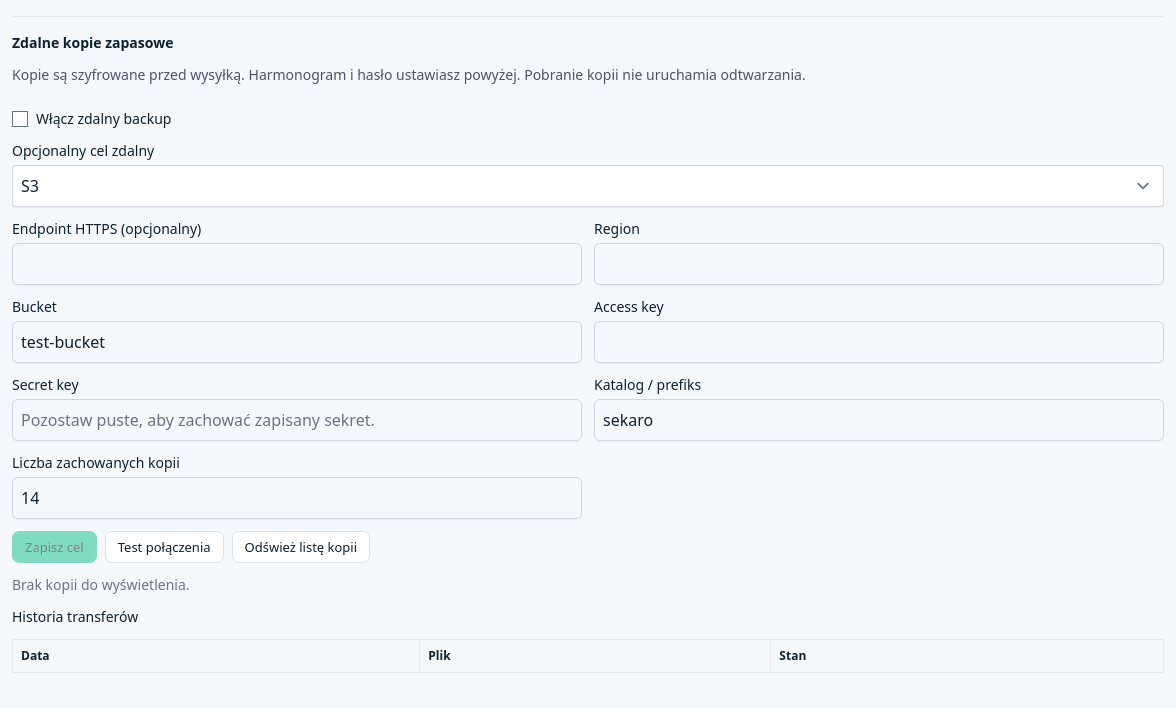
Test: preserves the draft after a failed save
Replace the text in the field labelled "Bucket" with "changed": (297,342) 12,321 -> 582,363
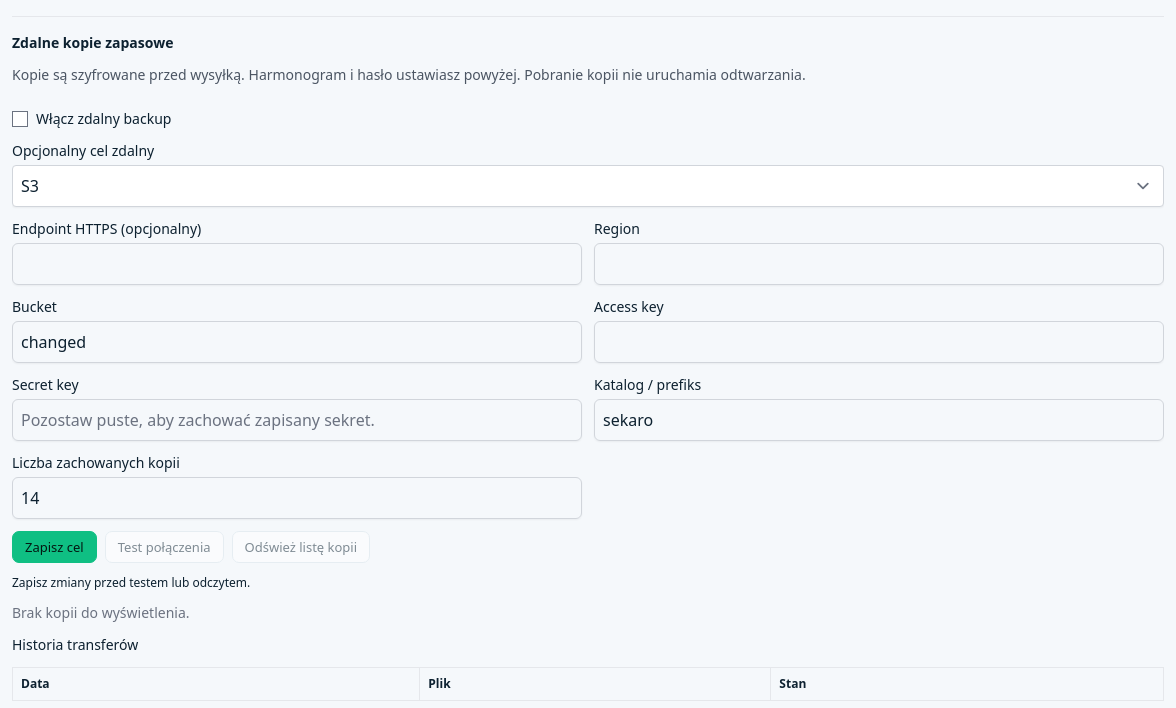
Click the button "Zapisz cel": (54,547) 12,531 -> 97,563
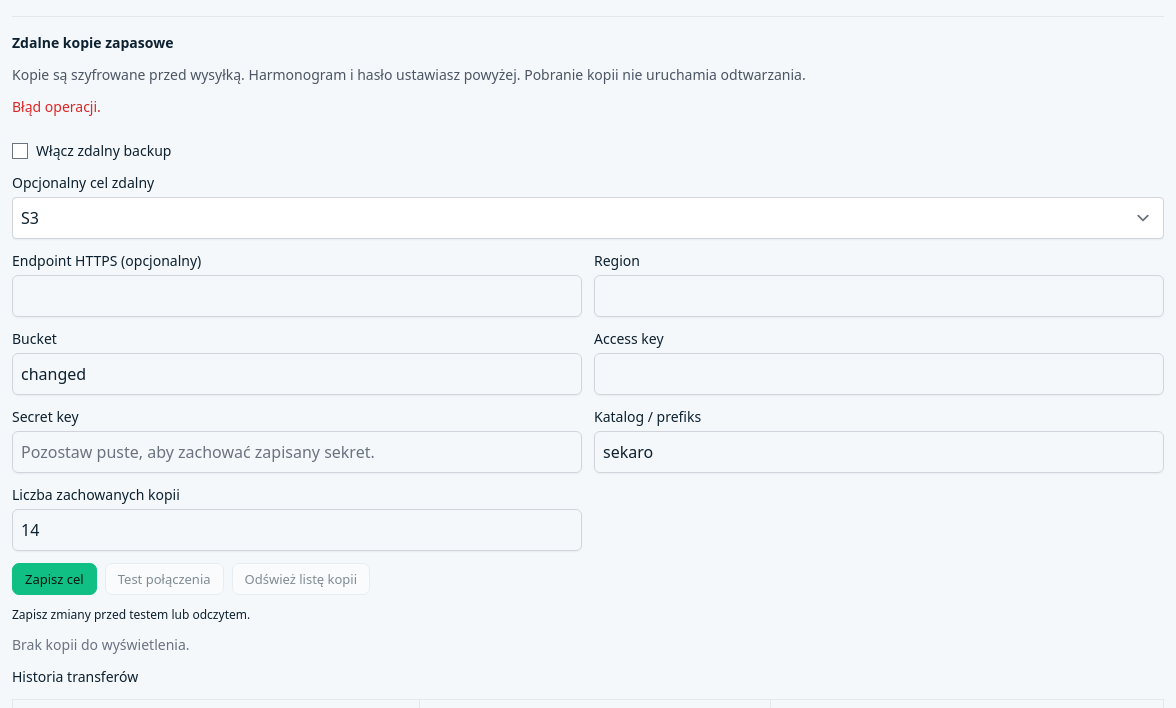
Check: the message "Błąd operacji." is shown, box 12,97 -> 101,116
